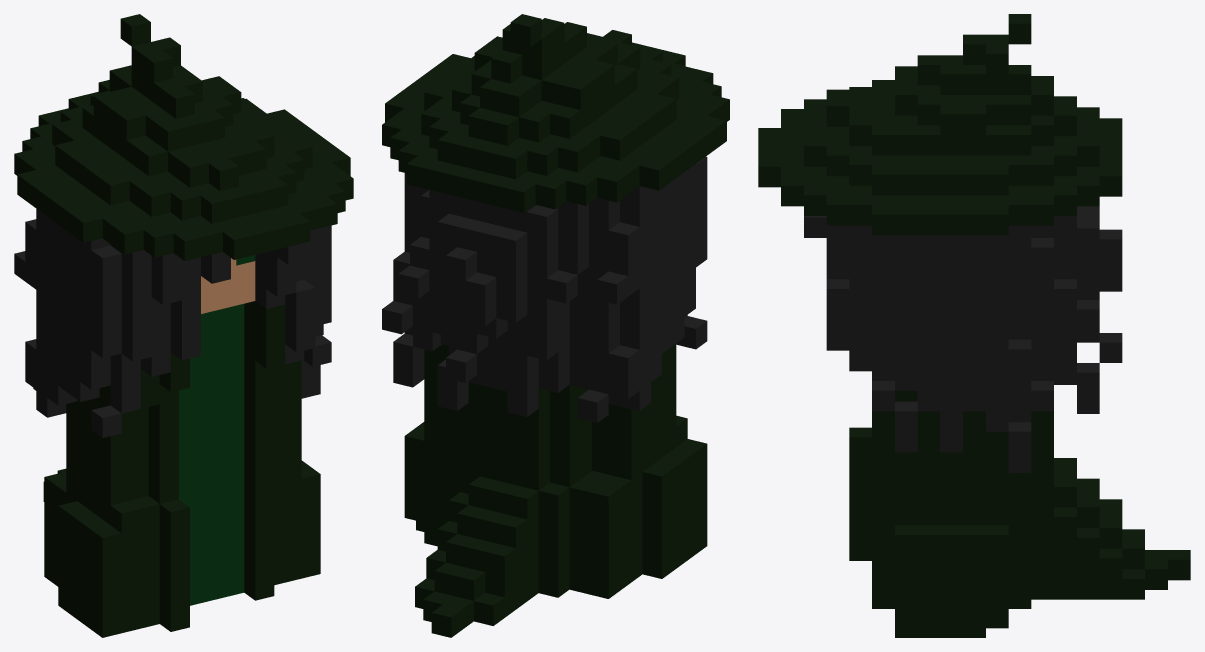
File: Bruxa 03 - Andando-03.obj
3 views of the same model, side by side, from view 1: azimuth 30°, elevation 25°; view 2: azimuth 150°, elevation 25°; view 3: azimuth 270°, elevation 25° (orthographic). The views are drawn at different scales.
Size of the model in its own units: 14 by 27 by 19.
1 material, 1 textured.
